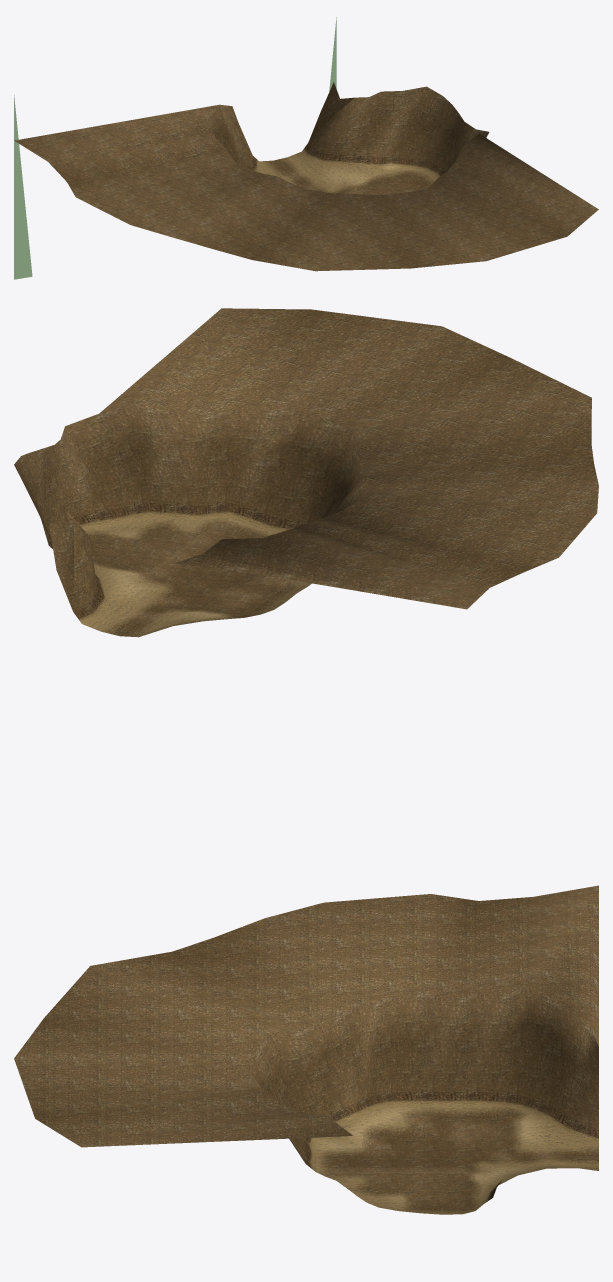
File: Mission12_Zone01D.glb
3 views of the same model, one above another, from view 1: azimuth 30°, elevation 25°; view 2: azimuth 150°, elevation 25°; view 3: azimuth 270°, elevation 25° (orthographic). The views are drawn at different scales.
Parts seen in each view (by area): view 1: MISSION12_ZONE01D002, MISSION12_ZONE01D, MISSION12_ZONE01D032, MISSION12_ZONE01D014, MISSION12_ZONE01D073, MISSION12_ZONE01D001, MISSION12_ZONE01D003, MISSION12_ZONE01D004, MISSION12_ZONE01D075, MISSION12_ZONE01D054, MISSION12_ZONE01D023, MISSION12_ZONE01D064 (+35 smaller); view 2: MISSION12_ZONE01D002, MISSION12_ZONE01D, MISSION12_ZONE01D004, MISSION12_ZONE01D032, MISSION12_ZONE01D085, MISSION12_ZONE01D001, MISSION12_ZONE01D021, MISSION12_ZONE01D030, MISSION12_ZONE01D003, MISSION12_ZONE01D014, MISSION12_ZONE01D011, MISSION12_ZONE01D031 (+48 smaller); view 3: MISSION12_ZONE01D002, MISSION12_ZONE01D, MISSION12_ZONE01D032, MISSION12_ZONE01D001, MISSION12_ZONE01D004, MISSION12_ZONE01D003, MISSION12_ZONE01D035, MISSION12_ZONE01D077, MISSION12_ZONE01D085, MISSION12_ZONE01D067, MISSION12_ZONE01D023, MISSION12_ZONE01D026 (+54 smaller).
Boxes of the visible parts, x1,y1,x2,y2 form: MISSION12_ZONE01D002: (428, 189, 566, 260); MISSION12_ZONE01D: (315, 195, 410, 271); MISSION12_ZONE01D032: (76, 168, 244, 224); MISSION12_ZONE01D014: (447, 139, 597, 208); MISSION12_ZONE01D073: (377, 86, 432, 171); MISSION12_ZONE01D001: (407, 193, 485, 268); MISSION12_ZONE01D003: (439, 178, 598, 236); MISSION12_ZONE01D004: (252, 194, 350, 270); MISSION12_ZONE01D075: (14, 121, 200, 161); MISSION12_ZONE01D054: (68, 139, 235, 181); MISSION12_ZONE01D023: (131, 174, 261, 237); MISSION12_ZONE01D064: (48, 139, 214, 181); MISSION12_ZONE01D002: (274, 309, 441, 409); MISSION12_ZONE01D: (332, 359, 591, 422); MISSION12_ZONE01D004: (356, 397, 591, 444); MISSION12_ZONE01D032: (363, 495, 596, 557); MISSION12_ZONE01D085: (202, 538, 465, 609); MISSION12_ZONE01D001: (308, 326, 511, 410); MISSION12_ZONE01D021: (209, 408, 273, 516); MISSION12_ZONE01D030: (149, 408, 212, 520); MISSION12_ZONE01D003: (221, 308, 311, 407); MISSION12_ZONE01D014: (127, 308, 221, 414); MISSION12_ZONE01D011: (356, 432, 589, 463); MISSION12_ZONE01D031: (99, 407, 163, 504); MISSION12_ZONE01D002: (14, 1058, 250, 1118); MISSION12_ZONE01D: (44, 966, 255, 1051); MISSION12_ZONE01D032: (324, 894, 430, 993); MISSION12_ZONE01D001: (14, 1018, 245, 1065); MISSION12_ZONE01D004: (91, 951, 270, 1031); MISSION12_ZONE01D003: (35, 1091, 266, 1147); MISSION12_ZONE01D035: (349, 994, 400, 1106); MISSION12_ZONE01D077: (506, 987, 568, 1100); MISSION12_ZONE01D085: (549, 886, 598, 1025); MISSION12_ZONE01D067: (464, 994, 528, 1116); MISSION12_ZONE01D023: (265, 902, 378, 1000); MISSION12_ZONE01D026: (299, 1024, 357, 1125).
Size of the model in its own units: 111 by 50.83 by 111.
10 materials, 9 textured.
